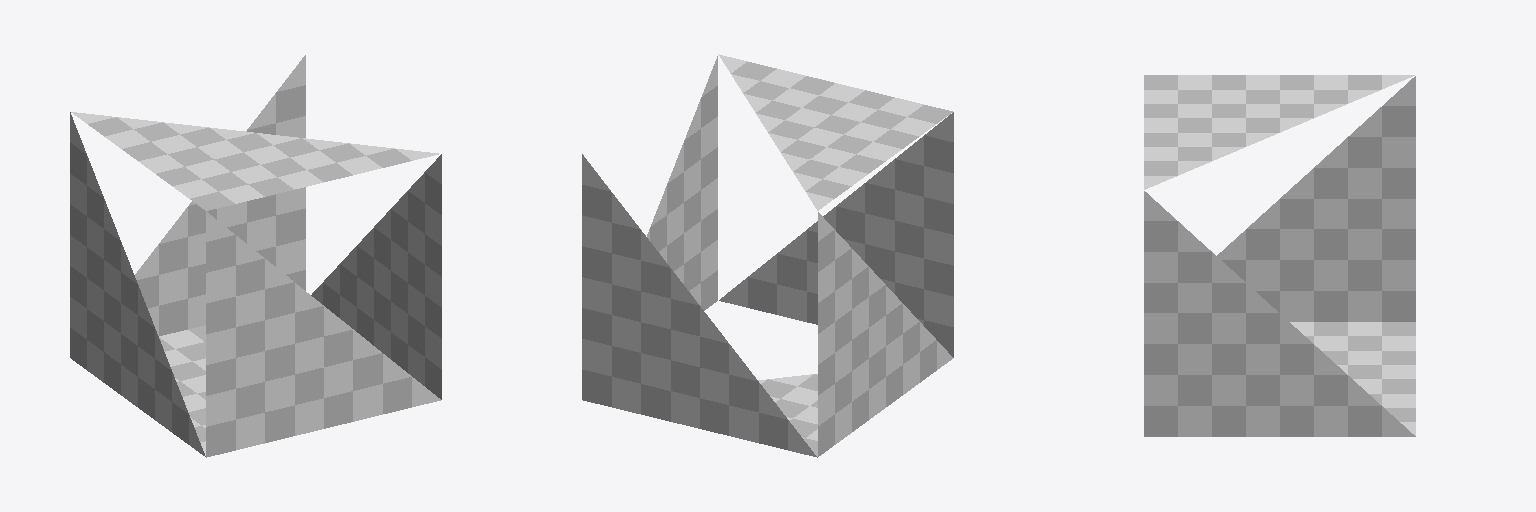
3 renders of one model, left to right at view 1: azimuth 30°, elevation 25°; view 2: azimuth 150°, elevation 25°; view 3: azimuth 270°, elevation 25°, orthographic.
Visible parts, largest first — view 1: cube; view 2: cube; view 3: cube.
Boxes of the visible parts, box(x1,y1,x2,y2) form: cube: box(70, 55, 441, 457); cube: box(582, 54, 953, 457); cube: box(1144, 75, 1415, 436).
Size of the model in its own units: 1 by 1 by 1.
Materials: 1 (1 with a texture image).